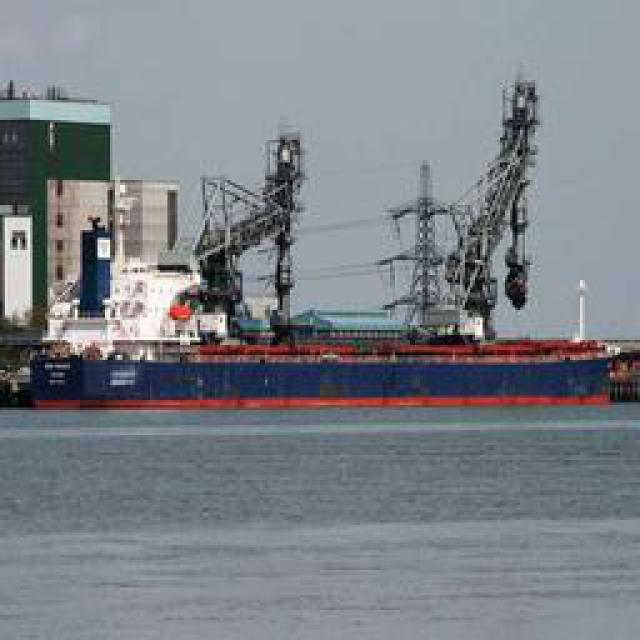Ship: (20, 328, 635, 406)
